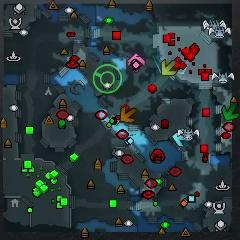x1: (128, 54, 145, 73)
x2: (161, 60, 179, 75)
x3: (173, 129, 190, 147)
x4: (221, 103, 240, 121)
x5: (120, 108, 137, 123)
